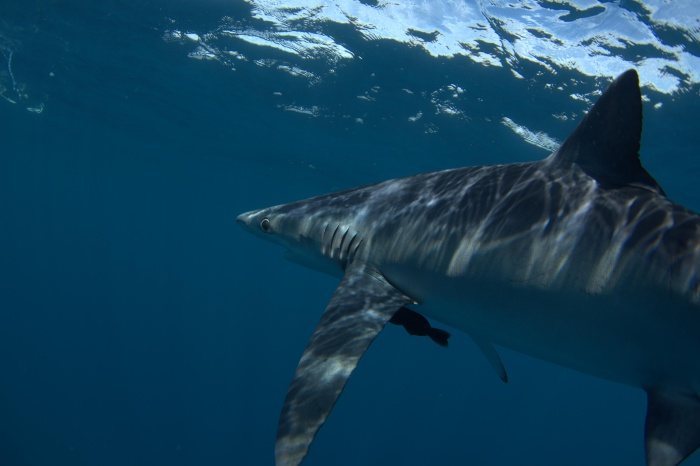Azul: (207, 65, 694, 466)
